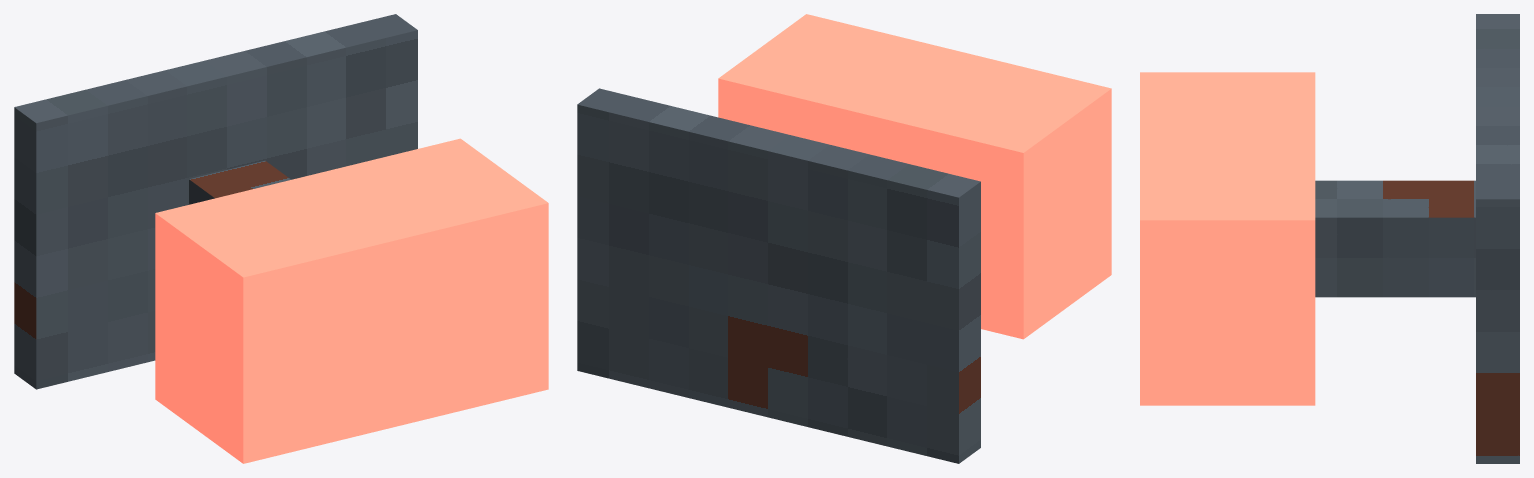
File: warning_light.gltf
The picture shows the model from 3 angles, left to right: view 1: azimuth 30°, elevation 25°; view 2: azimuth 150°, elevation 25°; view 3: azimuth 270°, elevation 25°; orthographic projection.
Visible parts, largest first — view 1: warning_light; view 2: warning_light; view 3: warning_light.
Boxes of the visible parts, <box> form: warning_light: <box>14,14,548,463</box>; warning_light: <box>577,14,1111,463</box>; warning_light: <box>1140,14,1519,463</box>.
Size of the model in its own units: 0.3 by 0.2 by 0.26.
Materials: 2 (1 with a texture image).
